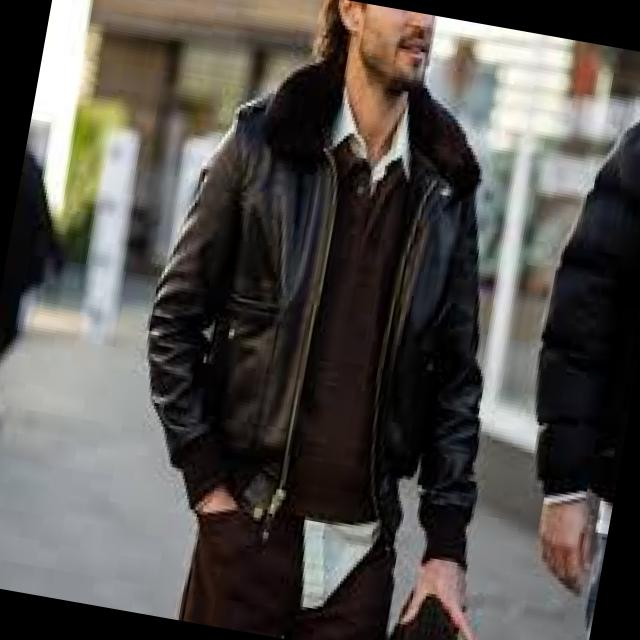Jacket: (129, 51, 593, 582)
